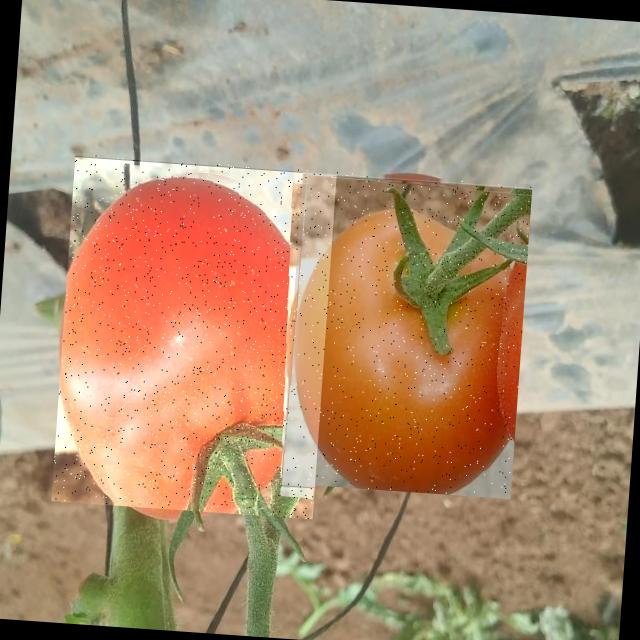Ripe Tomato: (51, 153, 337, 518), (281, 169, 532, 498)
